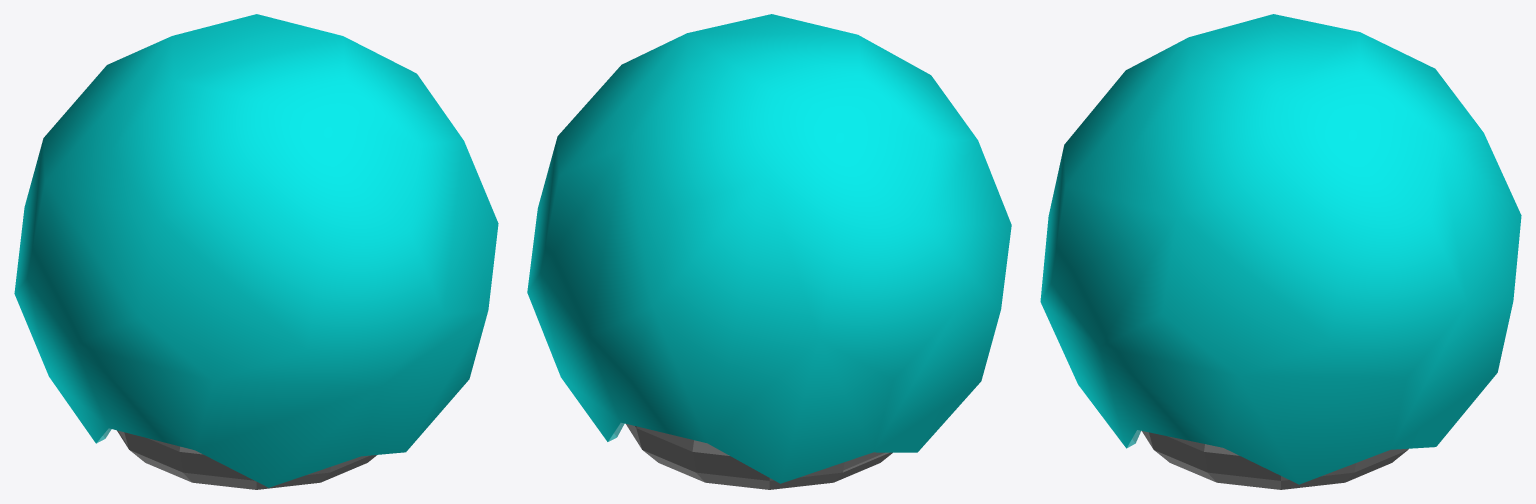
The model's file is City Dome.fbx.
The picture shows the model from 3 angles, left to right: view 1: azimuth 30°, elevation 25°; view 2: azimuth 150°, elevation 25°; view 3: azimuth 270°, elevation 25°; orthographic projection.
Visible parts, largest first — view 1: pSolid2; view 2: pSolid2; view 3: pSolid2.
Boxes of the visible parts, x1,y1,x2,y2 form: pSolid2: (14,14,498,489); pSolid2: (527,14,1011,489); pSolid2: (1040,14,1521,489).
Bounding box in the file's own units: 122 × 108 × 122.
